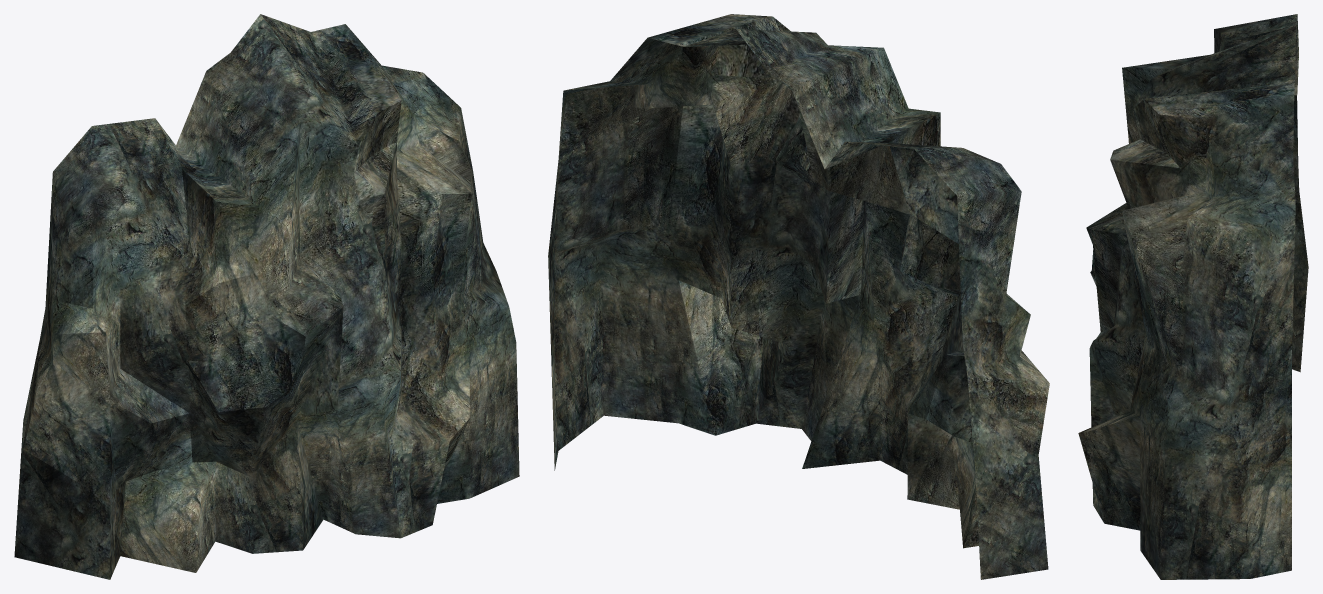
Rendered from cliff_jungle_high.fbx.
3 views of the same model, side by side, from view 1: azimuth 30°, elevation 25°; view 2: azimuth 150°, elevation 25°; view 3: azimuth 270°, elevation 25° (orthographic). The views are drawn at different scales.
Parts seen in each view (by area): view 1: cliff_jungle_high; view 2: cliff_jungle_high; view 3: cliff_jungle_high.
Boxes of the visible parts, left/top/right/bottom form: cliff_jungle_high: left=14, top=14, right=519, bottom=579; cliff_jungle_high: left=548, top=14, right=1049, bottom=579; cliff_jungle_high: left=1078, top=14, right=1308, bottom=579.
Size of the model in its own units: 11995 by 11364 by 5004.
1 material, 1 textured.
